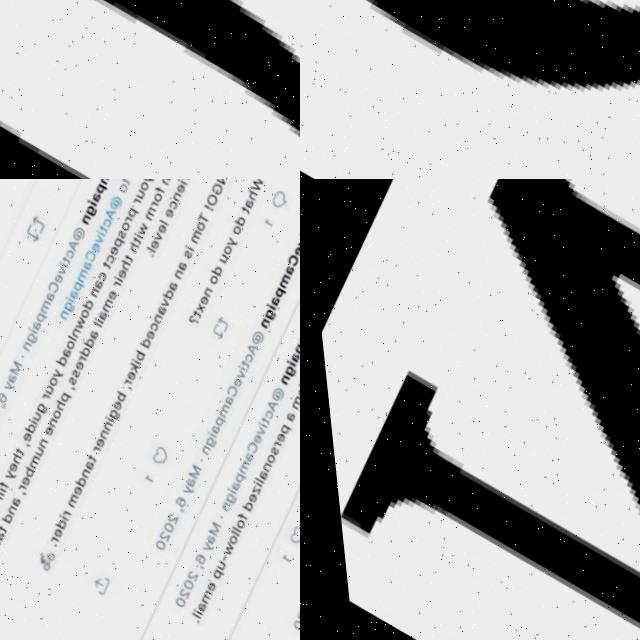0: (0, 0, 300, 179), (160, 590, 175, 605), (285, 594, 300, 608), (277, 612, 292, 626), (169, 574, 183, 586), (151, 517, 164, 529), (142, 535, 155, 547)
1: (133, 470, 144, 479), (270, 548, 279, 557), (259, 212, 269, 220)
2: (282, 603, 296, 617), (146, 526, 160, 539), (173, 565, 187, 578), (155, 508, 169, 520), (164, 583, 178, 595), (290, 585, 300, 600)
6: (181, 547, 197, 562), (163, 491, 177, 503)
9: (300, 0, 640, 179)
N: (300, 179, 640, 640)
